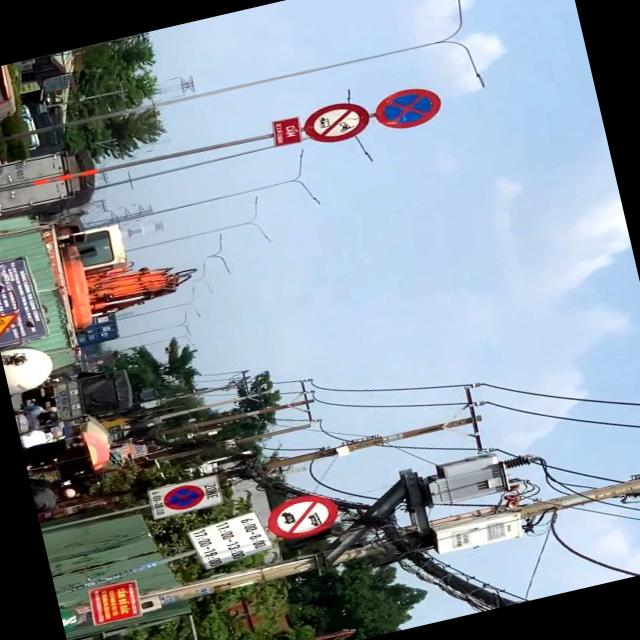P-104: (298, 96, 373, 148)
P-130: (370, 83, 446, 135)
